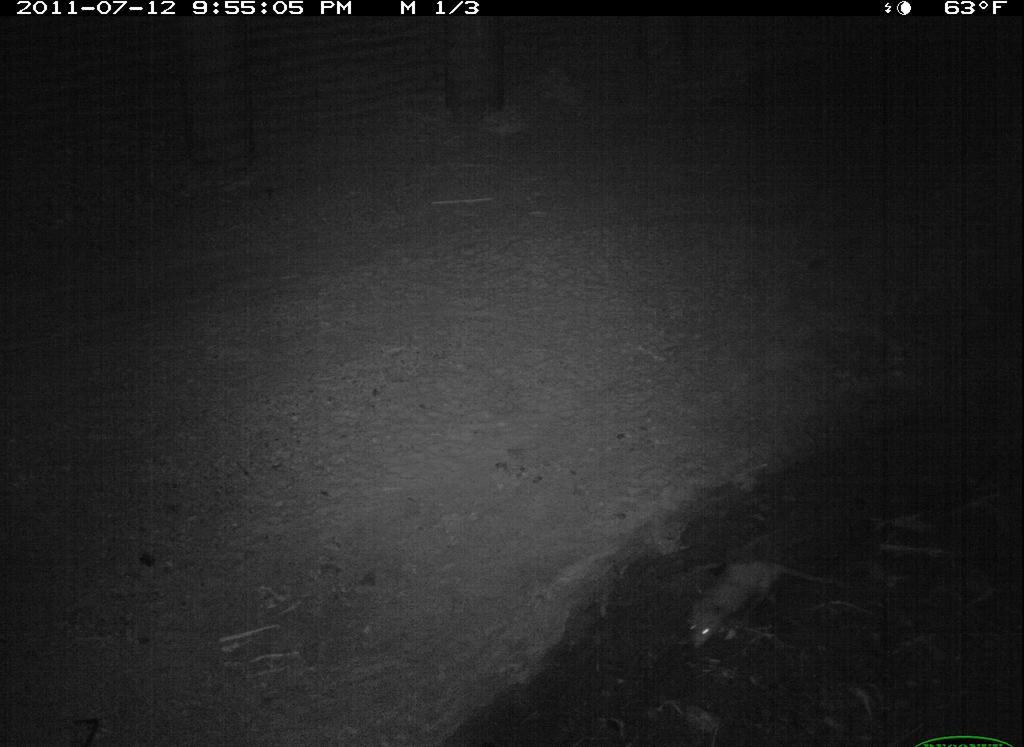opossum: (680, 546, 853, 656)
